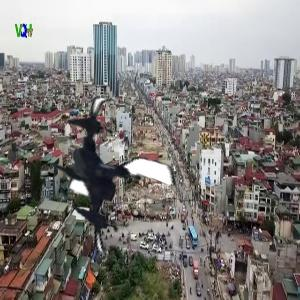drone: (32, 100, 185, 253)
